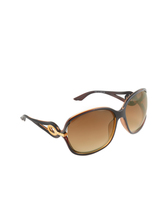glasses: (18, 87, 152, 154)
